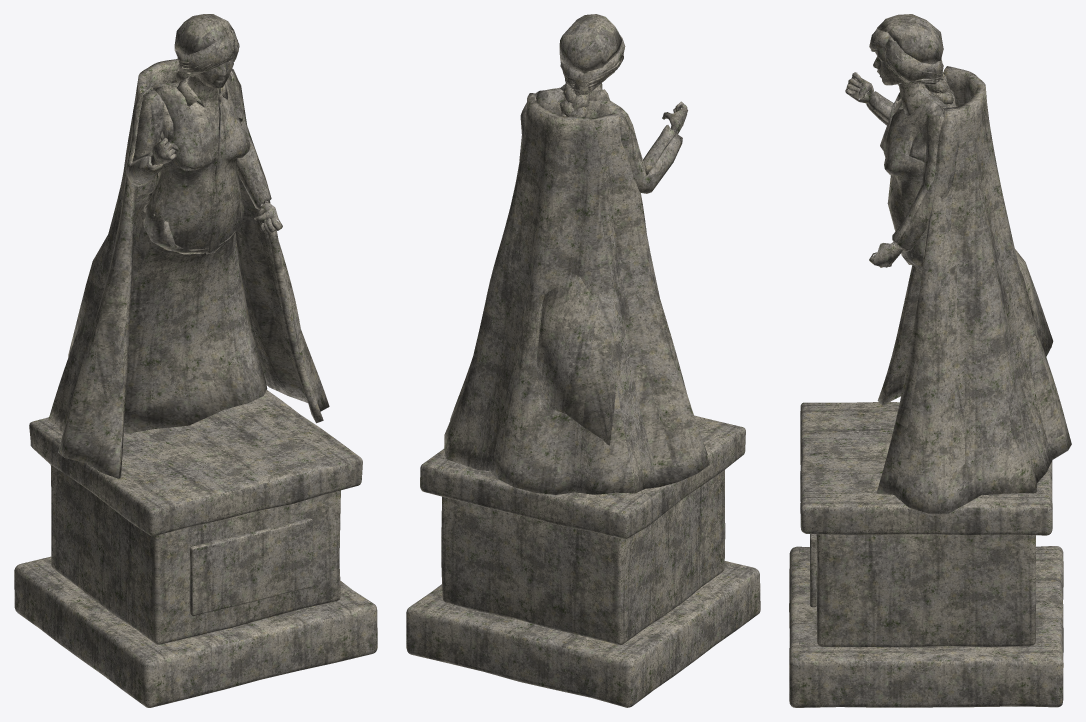
File: statue.glb
3 renders of one model, left to right at view 1: azimuth 30°, elevation 25°; view 2: azimuth 150°, elevation 25°; view 3: azimuth 270°, elevation 25°, orthographic. The views are drawn at different scales.
Visible parts, largest first — view 1: statue; view 2: statue; view 3: statue.
Boxes of the visible parts, left/top/right/bottom form: statue: left=14, top=14, right=377, bottom=707; statue: left=406, top=14, right=760, bottom=707; statue: left=789, top=14, right=1071, bottom=707.
Size of the model in its own units: 1.11 by 2.57 by 1.03.
Materials: 1 (1 with a texture image).
